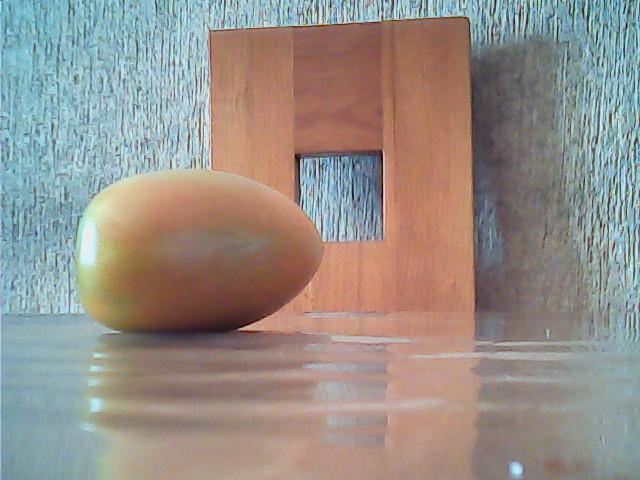verde: (76, 168, 327, 336)
